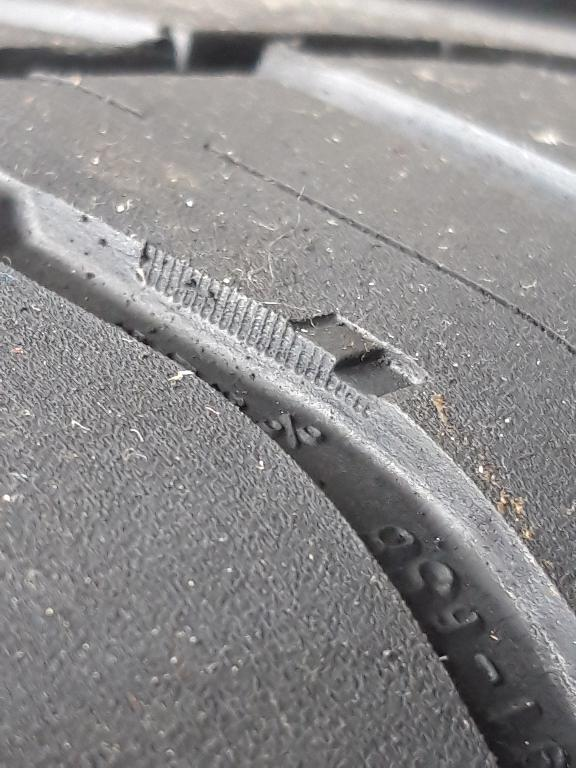temoin:25: (264, 303, 442, 432)
